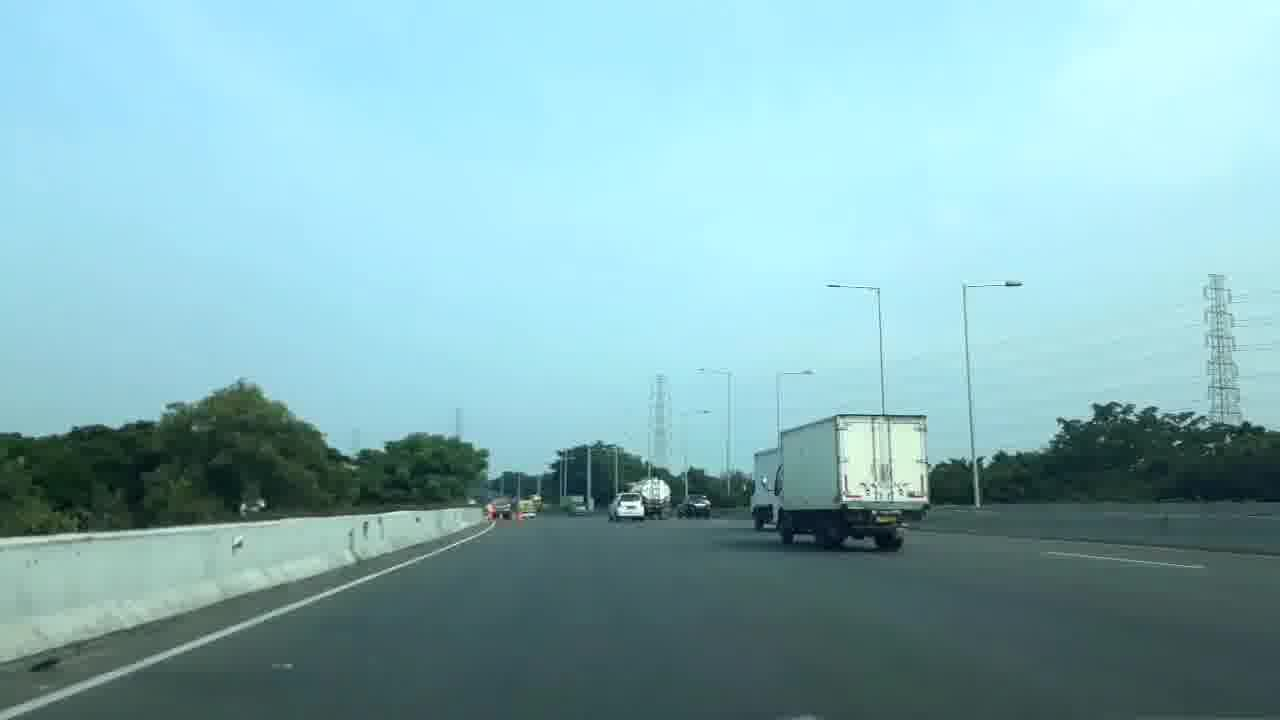plate_positive: (875, 515, 897, 523)
